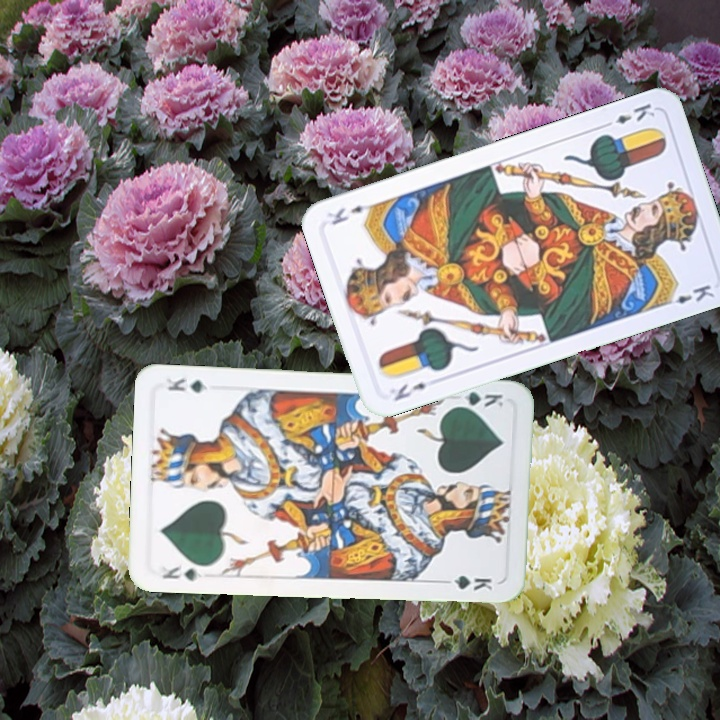EK: (599, 99, 658, 131), (390, 378, 429, 404)
GK: (449, 387, 506, 410), (158, 561, 204, 584)
